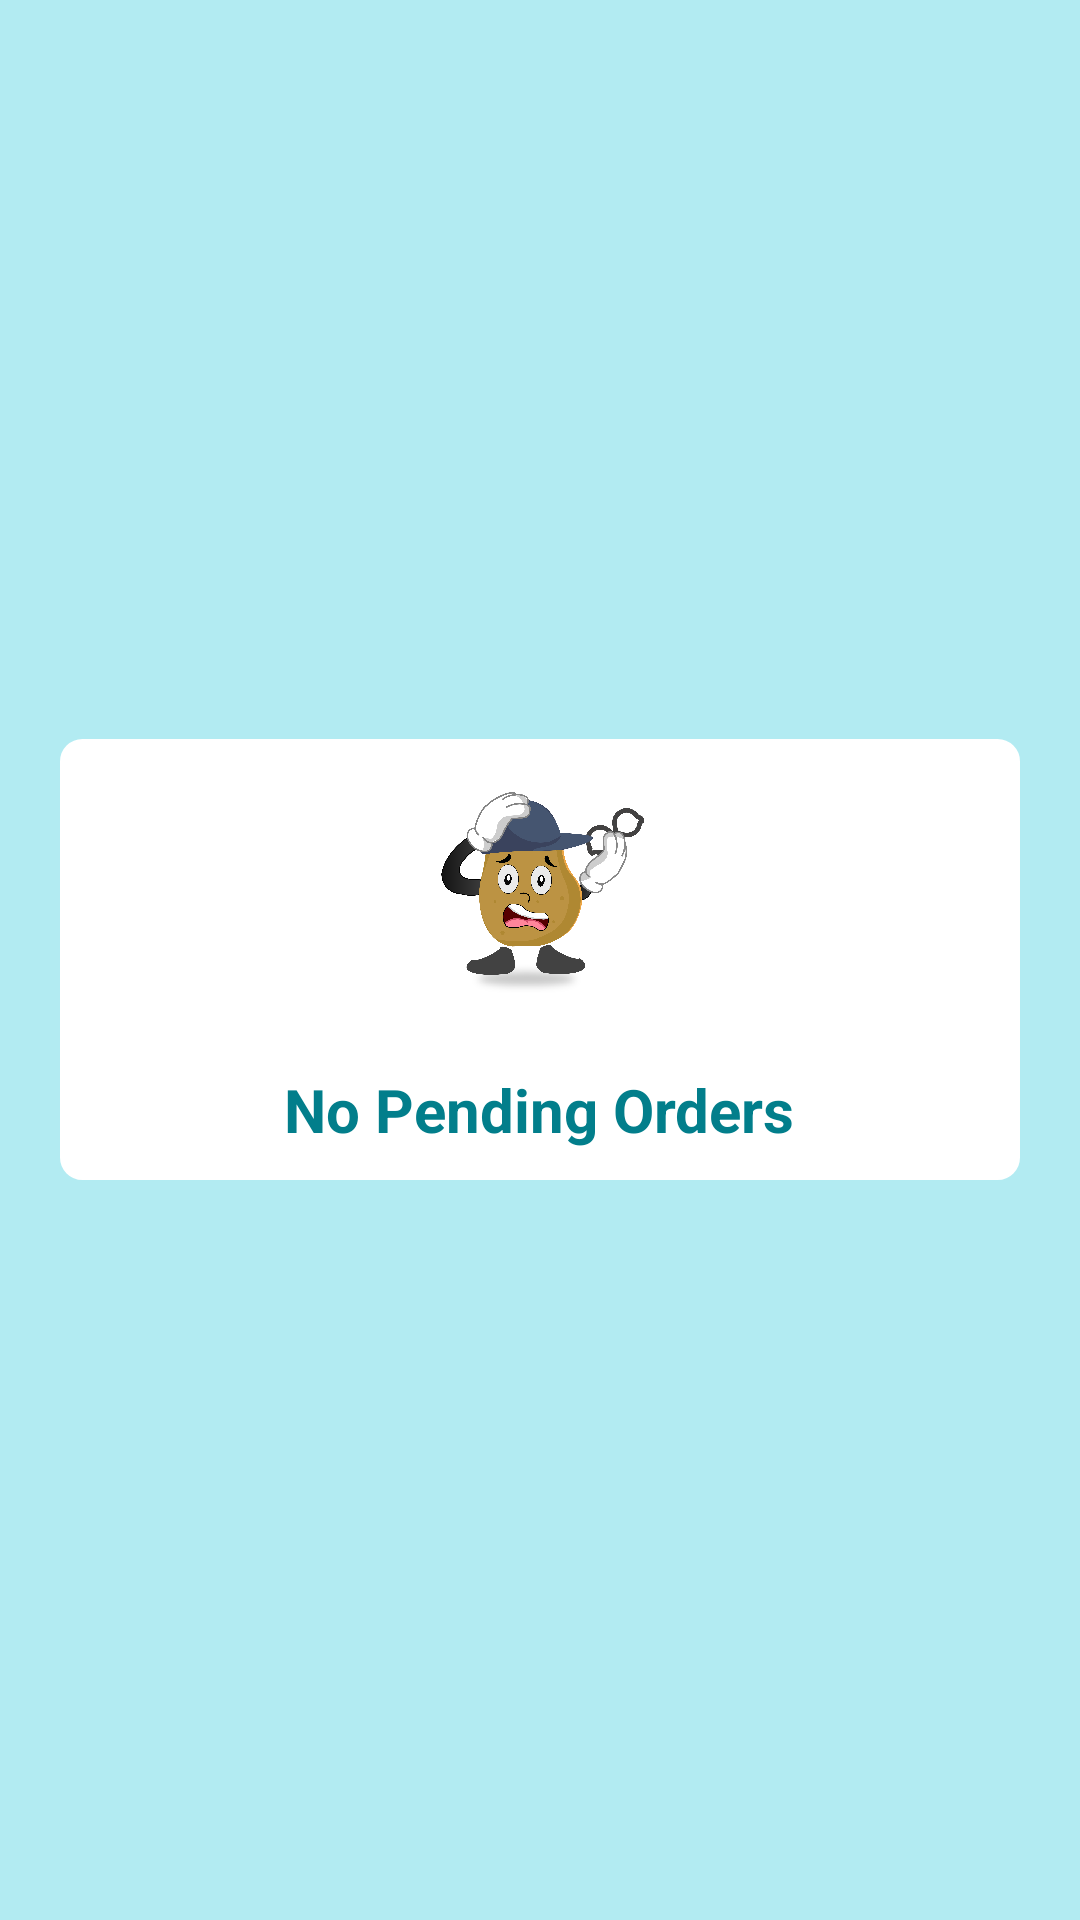

Icon click points for this 1080 x 1920 phone screenshot, format (x=x, y=y):
error putatoe: (x=542, y=889)
